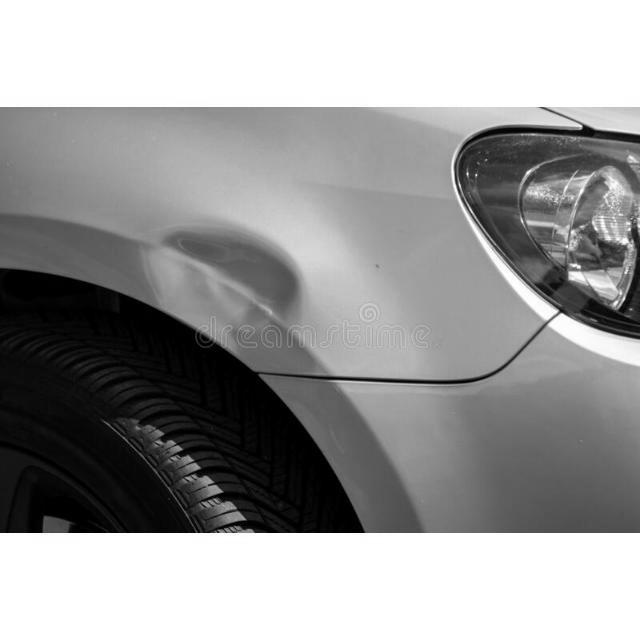fender-dent: (1, 108, 478, 383)
